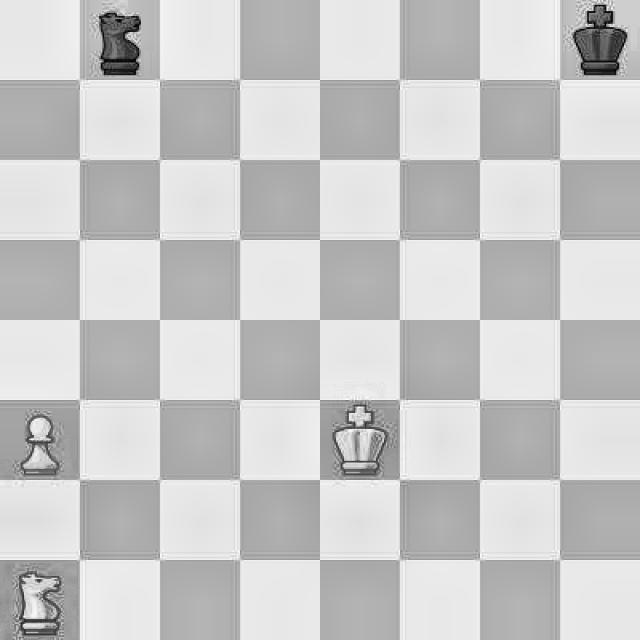Black Knight: (79, 0, 158, 78)
black king: (561, 1, 640, 77)
white king: (322, 402, 399, 483)
white pawn: (0, 398, 78, 476)
whiteknight: (0, 565, 81, 640)
